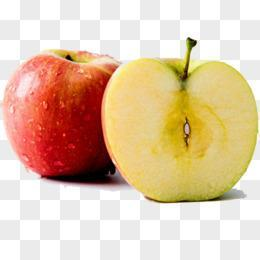apple: (102, 57, 257, 203), (1, 51, 121, 183)
